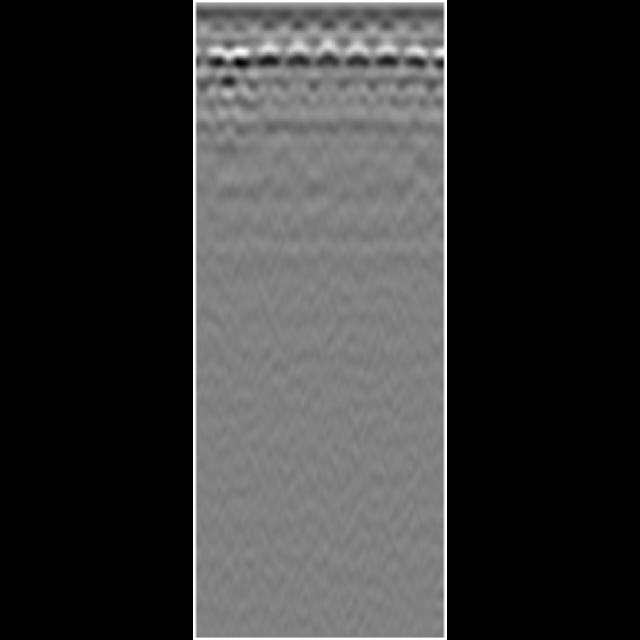hyperbola: (365, 44, 405, 82), (280, 44, 316, 84), (225, 46, 257, 88), (340, 36, 374, 74), (398, 46, 436, 80), (202, 44, 234, 84), (250, 41, 282, 81), (312, 43, 346, 79)
